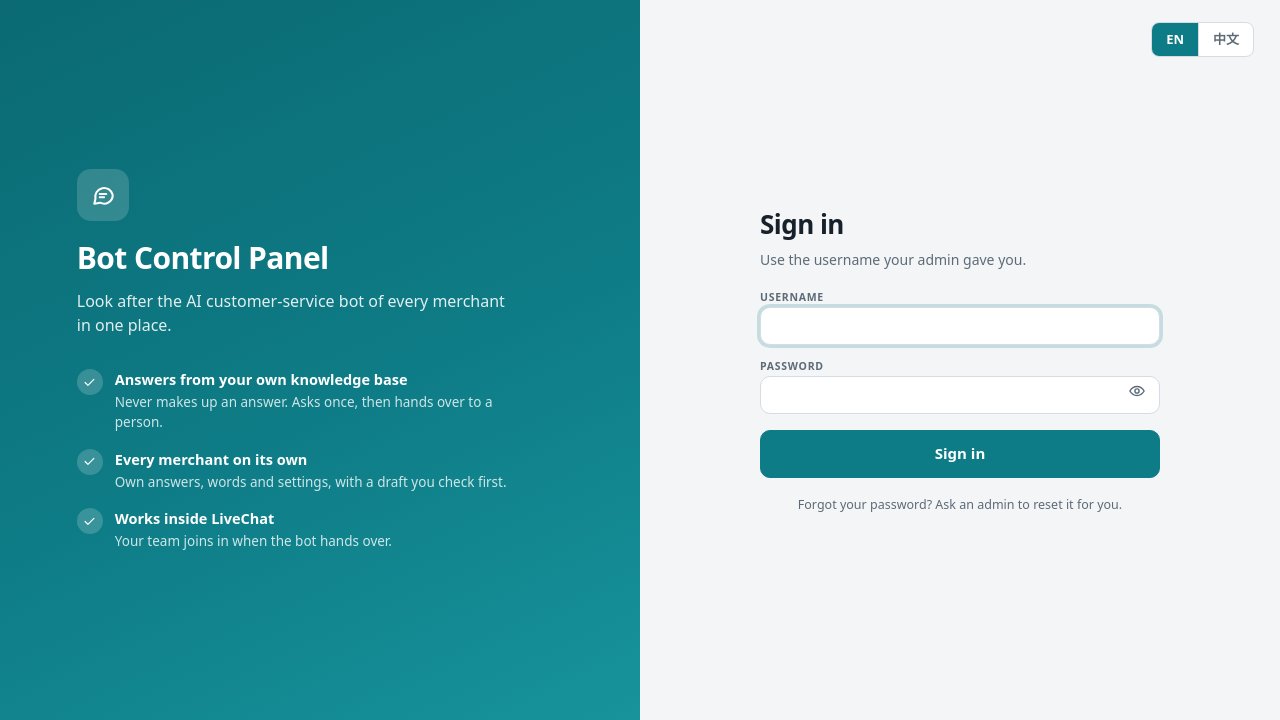
Test case: Login page › shows the server message when the password is wrong, and lets the person try again
Type "luckypay" into the field labelled "Username" at [960, 326], box [760,307,1160,345]
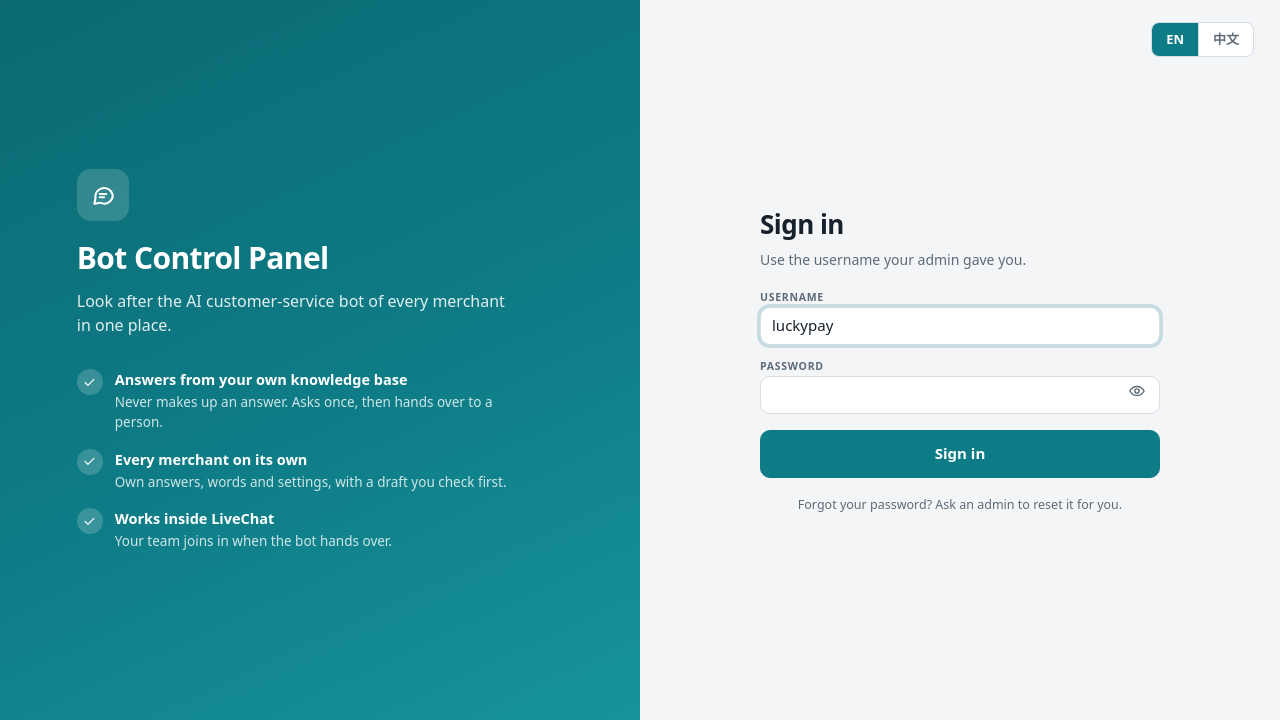
Type "nope" into the password field labelled "Password" at [960, 395], box [760,376,1160,414]
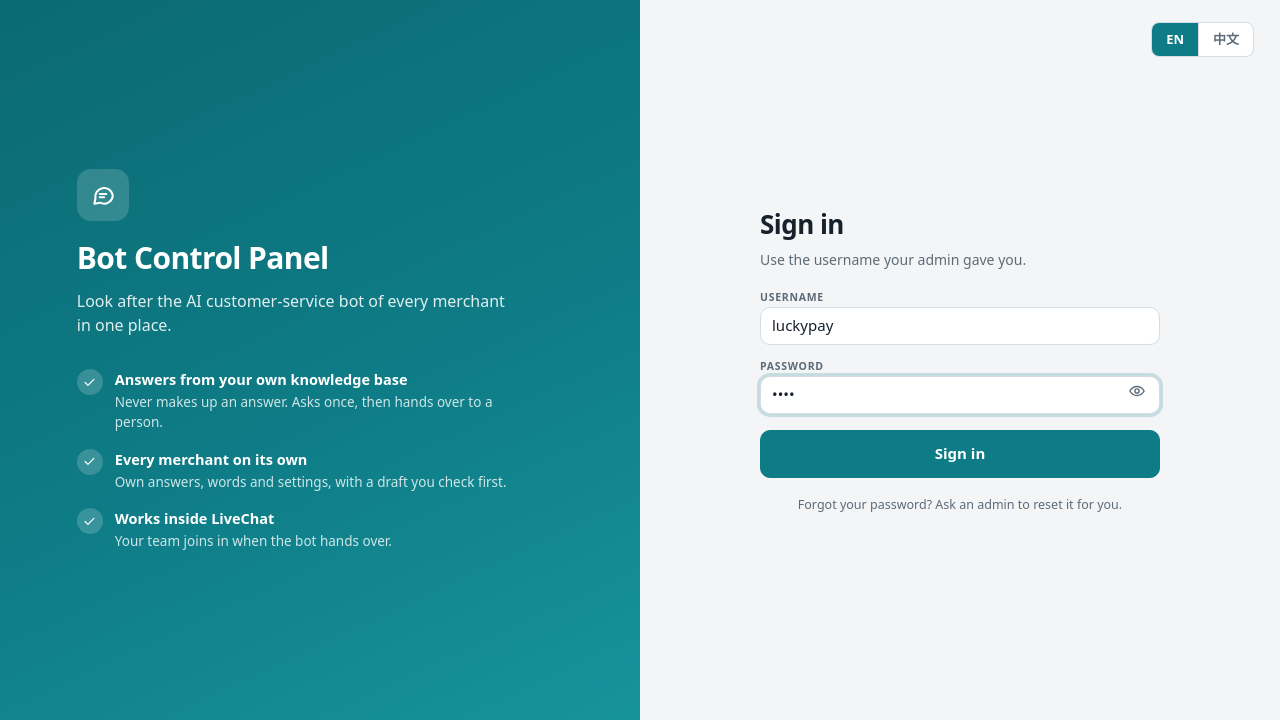
Click the button "Sign in" at [960, 454], box [760,430,1160,478]
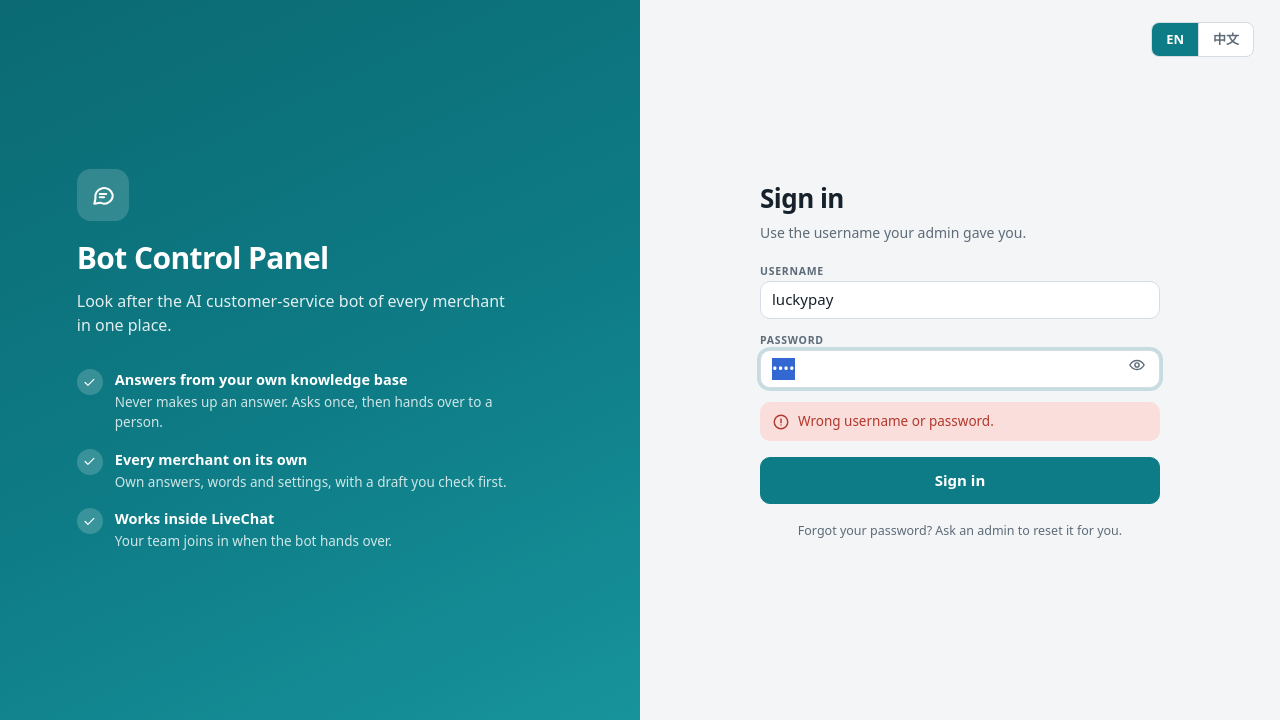
Expected: the button "Sign in" is enabled, [760,456,1160,504]
Expected: the message reads "Wrong username or password.", [798,412,994,430]
